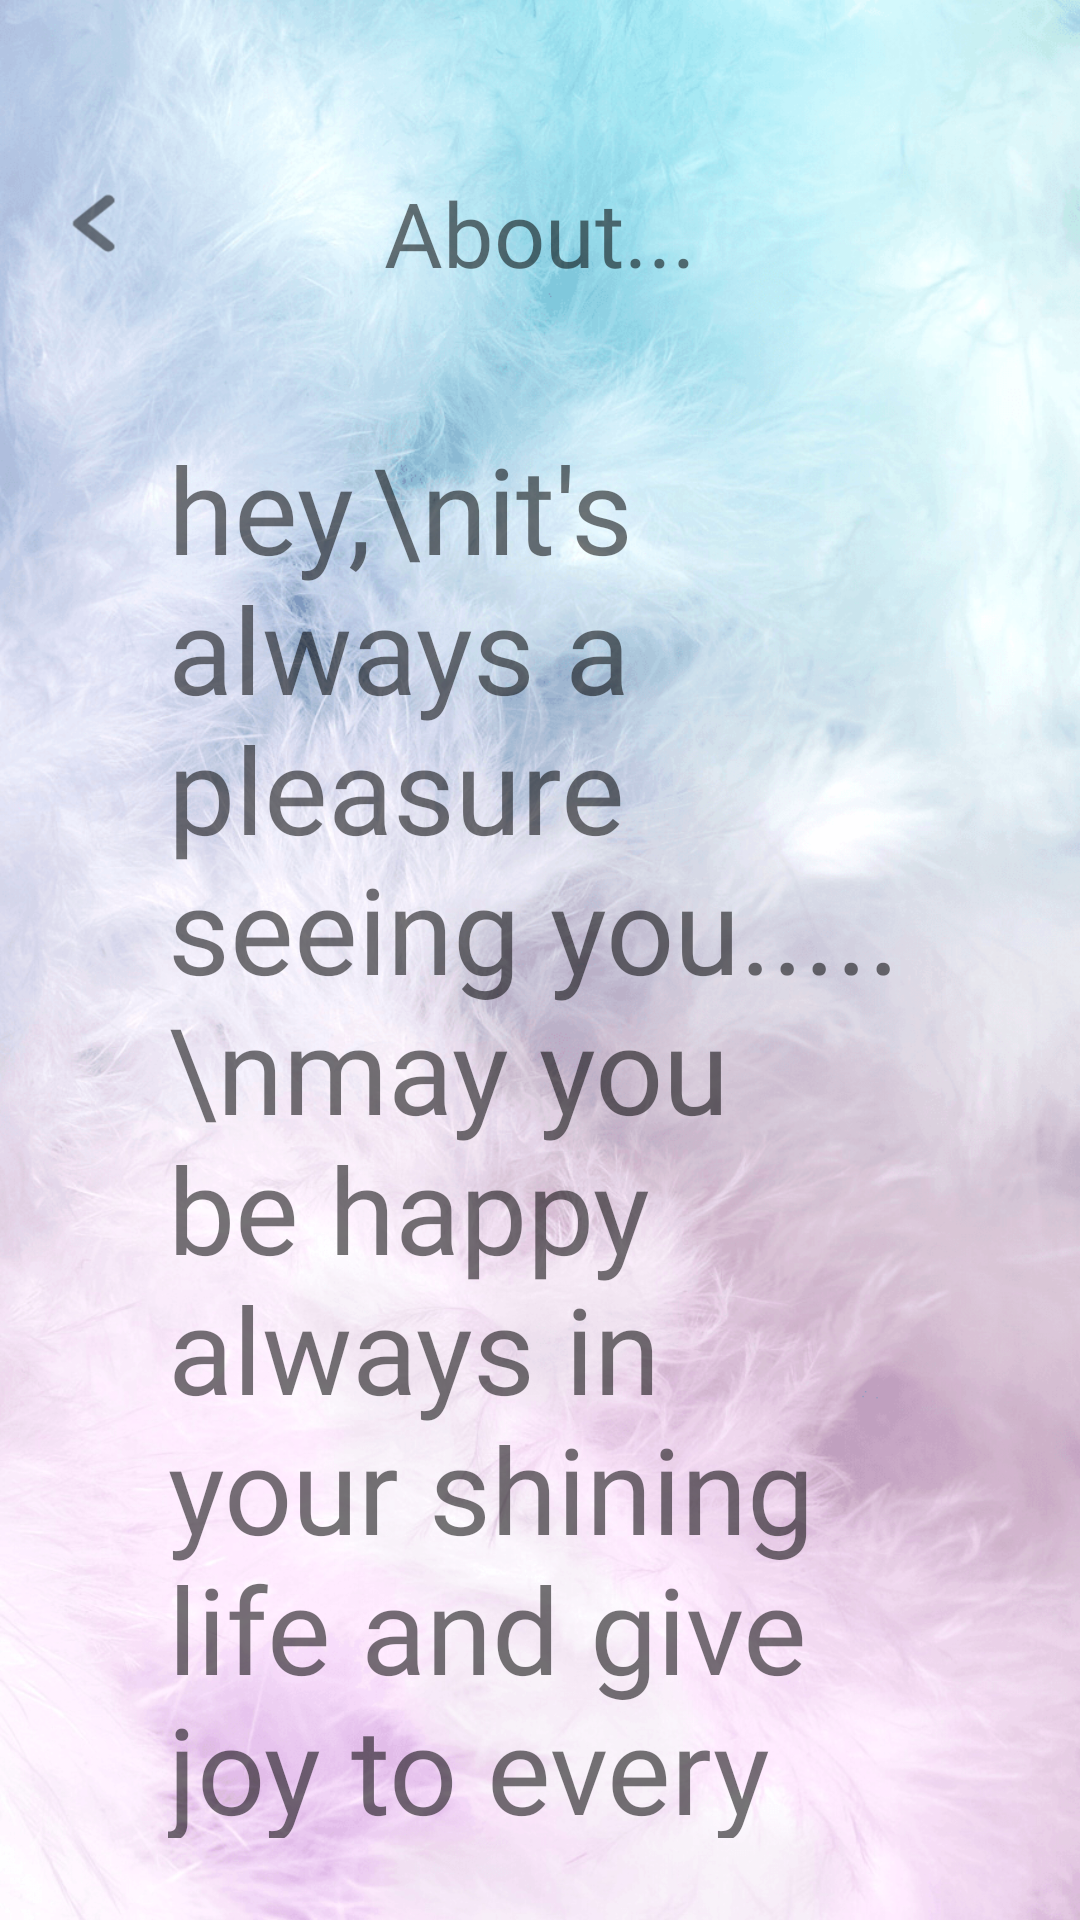

Screen size 1080w x 1920h. Icon name, then its center in pixels as (x=x, y=y):
keyboard arrow left: (x=93, y=220)
